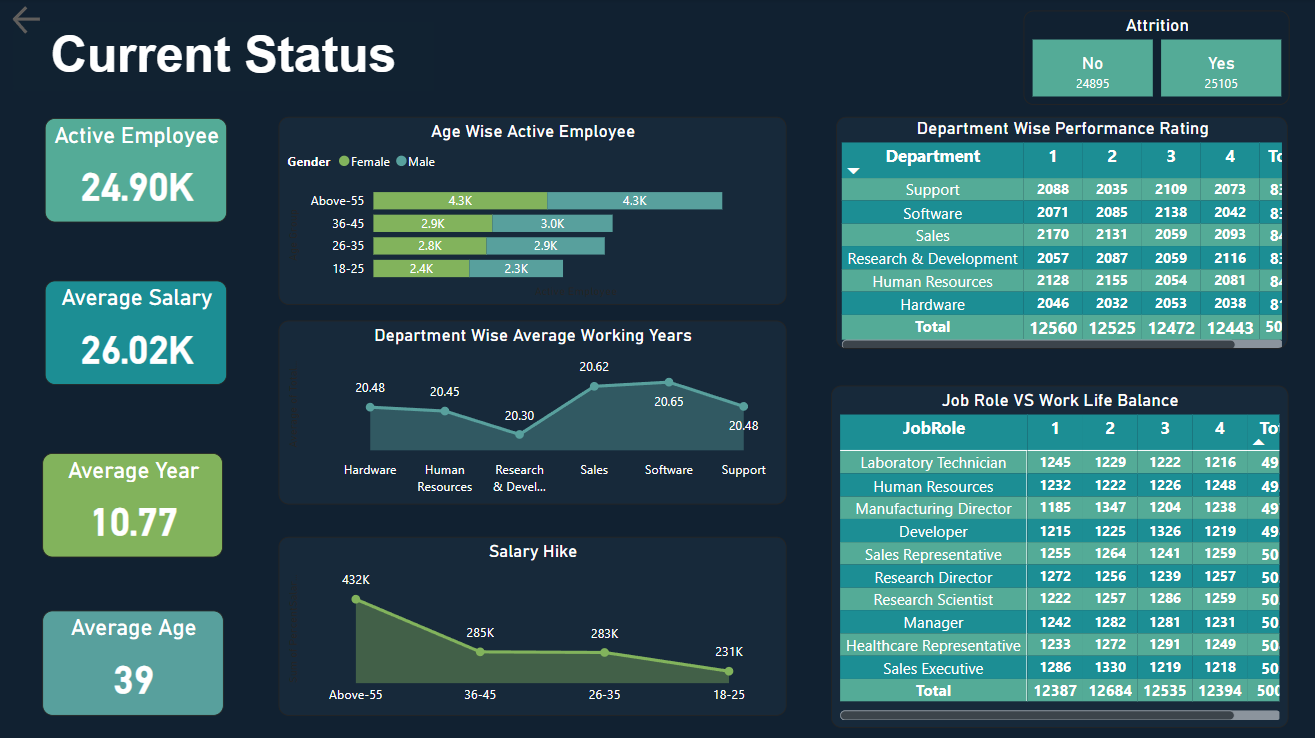

The dashboard page shown, as its layout file describes it:
{"tool":"powerbi","page":{"name":"Current Status","canvas":[1280,720],"ordinal":1},"visuals":[{"type":"card","title":"Average Year","fields":{"Values":["Avg(HR-2.YearsAtCompany)"]},"box":[44.7,438.6,174.6,101],"z":0},{"type":"card","title":"Average Salary","fields":{"Values":["Avg(HR-2.MonthlyIncome)"]},"box":[47.6,272.7,176,101],"z":1000},{"type":"pivotTable","title":"Job Role VS Work Life Balance","fields":{"Rows":["HR-1.JobRole"],"Columns":["HR-2.WorkLifeBalance"],"Values":["CountNonNull(HR-2.WorkLifeBalance)"]},"box":[806.2,373.8,441.2,330],"z":2000},{"type":"card","title":"Average Age","fields":{"Values":["Avg(HR-1.Age)"]},"box":[44.6,591,174.9,101.3],"z":3000},{"type":"pivotTable","title":"Department Wise Performance Rating","fields":{"Rows":["HR-1.Department"],"Values":["CountNonNull(HR-2.PerformanceRating)"],"Columns":["HR-2.PerformanceRating"]},"box":[811.2,115,436.2,223.8],"z":4000},{"type":"barChart","title":"Age Wise Active Employee","fields":{"Category":["HR-1.Age Group"],"Y":["HR-1.Active Employee"],"Series":["HR-1.Gender"]},"box":[272.5,115,490,181.2],"z":5000},{"type":"areaChart","title":"Department Wise Average Working Years","fields":{"Category":["HR-1.Department"],"Y":["Avg(HR-2.TotalWorkingYears)"]},"box":[272.5,311.2,490,177.5],"z":6000},{"type":"advancedSlicerVisual","fields":{"Values":["HR-1.Attrition"]},"box":[991.2,11.5,256.8,90.9],"z":8000},{"type":"card","title":"Active Employee","fields":{"Values":["HR-1.Active Employee"]},"box":[47.6,115.4,176,101],"z":10000},{"type":"areaChart","title":"Salary Hike ","fields":{"Category":["HR-1.Age Group"],"Y":["Sum(HR-2.PercentSalaryHike)"]},"box":[272.5,520,490,172.5],"z":11000},{"type":"textbox","box":[16.9,22.9,405.2,66.3],"z":12000},{"type":"actionButton","box":[11.5,2.9,36.1,37.5],"z":13000}]}

Visuals, with their boxes in screenshot pixels (x1, y1, x2, y2), scaled from the page's 1280x720 canvas onto the 1315x738 screenshot:
"Average Year" card: [x1=46, y1=450, x2=225, y2=553]
"Average Salary" card: [x1=49, y1=280, x2=230, y2=383]
"Job Role VS Work Life Balance" pivotTable: [x1=828, y1=383, x2=1282, y2=721]
"Average Age" card: [x1=46, y1=606, x2=226, y2=710]
"Department Wise Performance Rating" pivotTable: [x1=833, y1=118, x2=1282, y2=347]
"Age Wise Active Employee" barChart: [x1=280, y1=118, x2=783, y2=304]
"Department Wise Average Working Years" areaChart: [x1=280, y1=319, x2=783, y2=501]
advancedSlicerVisual - HR-1.Attrition: [x1=1018, y1=12, x2=1282, y2=105]
"Active Employee" card: [x1=49, y1=118, x2=230, y2=222]
"Salary Hike " areaChart: [x1=280, y1=533, x2=783, y2=710]
textbox: [x1=17, y1=23, x2=434, y2=91]
actionButton: [x1=12, y1=3, x2=49, y2=41]
